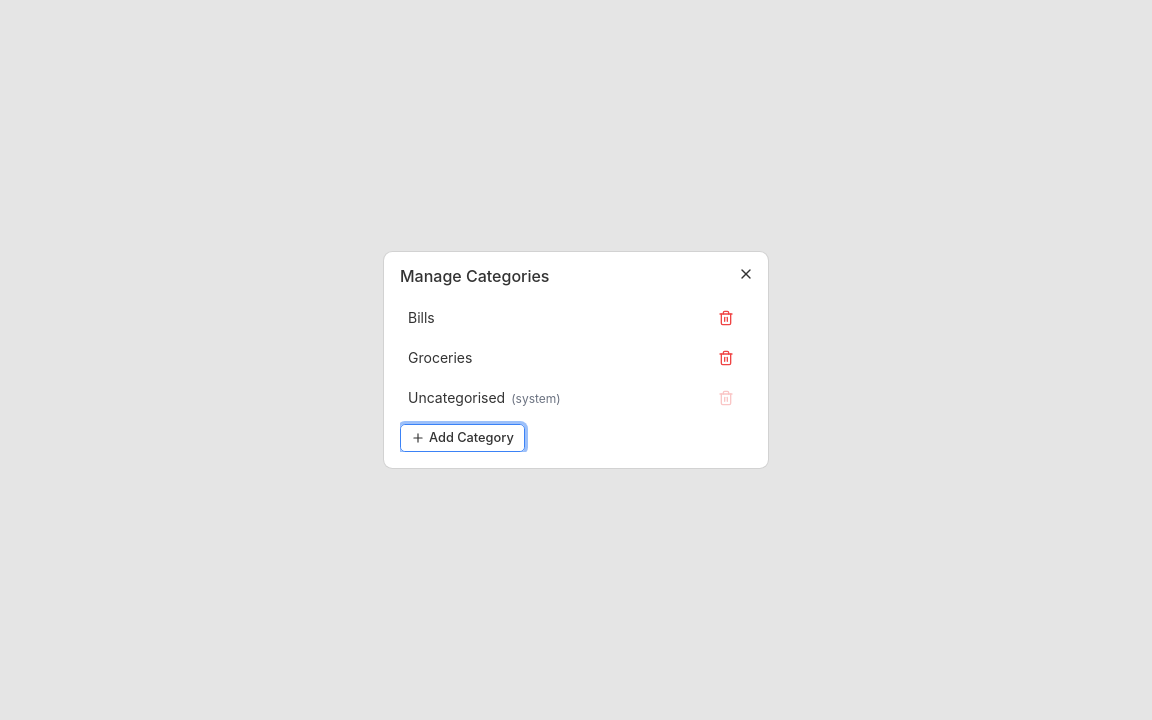
Scenario: CategoryManagementDialog — delete unused category › shows a confirmation dialog when delete is clicked for unused category
The image size is (1152, 720).
Click the button with test id "delete-btn-1" at coordinates (726, 318), box [712, 304, 740, 332]
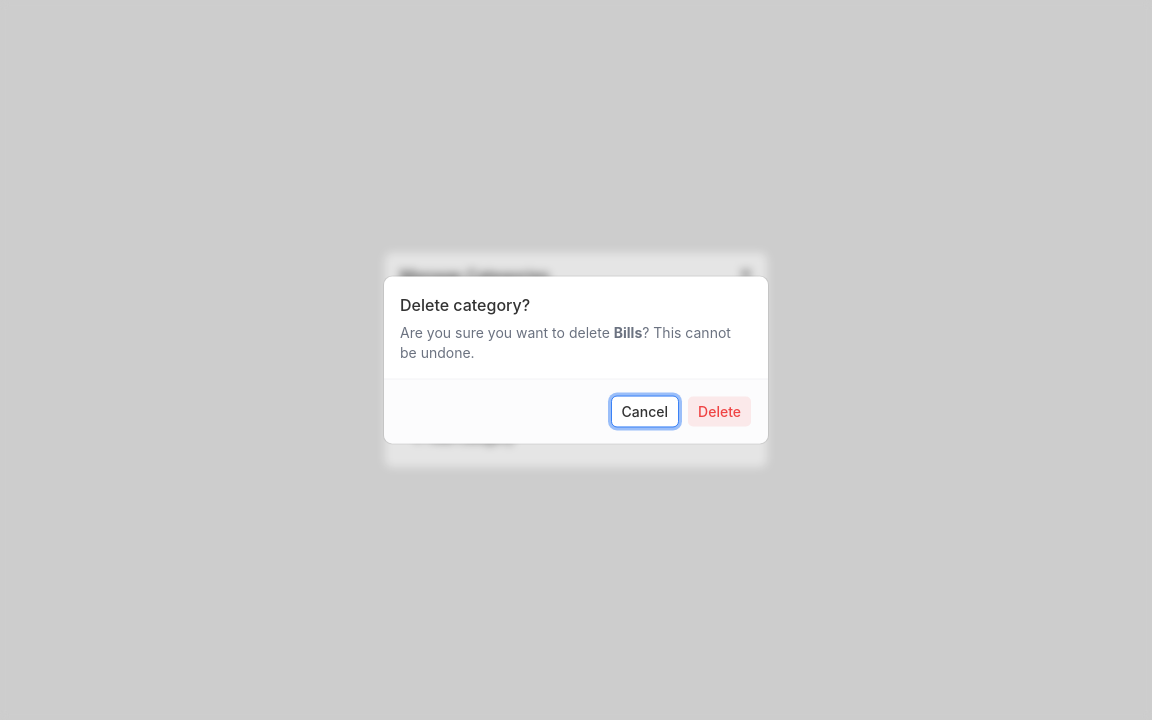
Expected: the button with test id "delete-confirm" is shown, [687, 396, 752, 428]
Expected: the heading "Delete category?" is shown, [400, 292, 530, 316]
